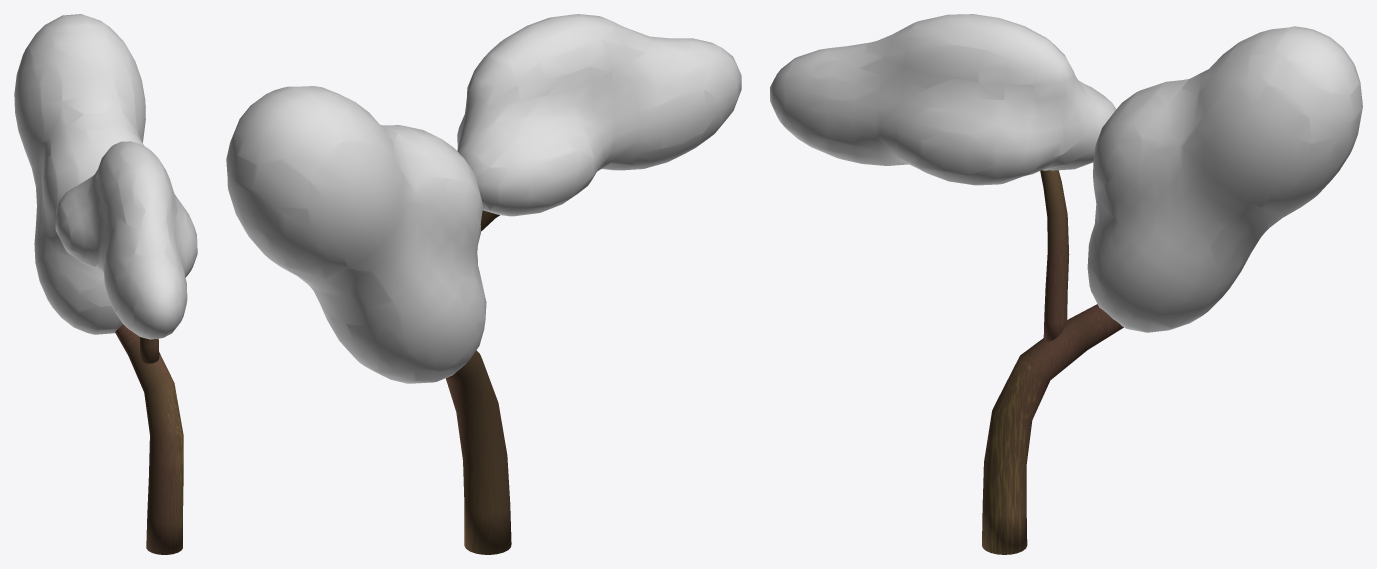
File: standart_tree.fbx
3 renders of one model, left to right at view 1: azimuth 30°, elevation 25°; view 2: azimuth 150°, elevation 25°; view 3: azimuth 270°, elevation 25°, orthographic. The views are drawn at different scales.
Parts seen in each view (by area): view 1: Cylinder.008; view 2: Cylinder.008; view 3: Cylinder.008.
Part boxes in pixels (x1,y1,x2,y2): Cylinder.008: [14, 14, 197, 554]; Cylinder.008: [226, 14, 741, 554]; Cylinder.008: [770, 14, 1362, 554].
Size of the model in its own units: 641 by 1352 by 1371.
